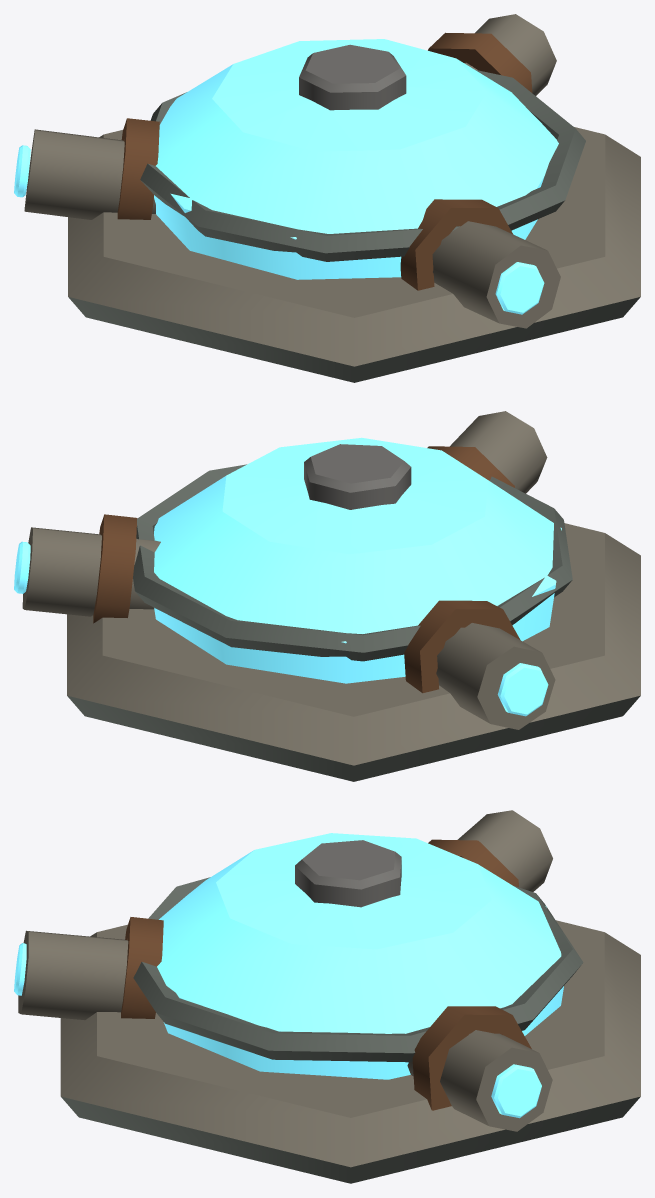
Rendered from R4D_SlowTrap.fbx.
3 views of the same model, one above another, from view 1: azimuth 30°, elevation 25°; view 2: azimuth 150°, elevation 25°; view 3: azimuth 270°, elevation 25° (orthographic).
Visible parts, largest first — view 1: R4D_SlowTrap_Body; view 2: R4D_SlowTrap_Body; view 3: R4D_SlowTrap_Body.
Part boxes in pixels (x1=…): R4D_SlowTrap_Body: x1=14, y1=14, x2=640, y2=382; R4D_SlowTrap_Body: x1=14, y1=411, x2=640, y2=781; R4D_SlowTrap_Body: x1=14, y1=810, x2=640, y2=1183.
Bounding box in the file's own units: 0.48 × 0.15 × 0.4491.
